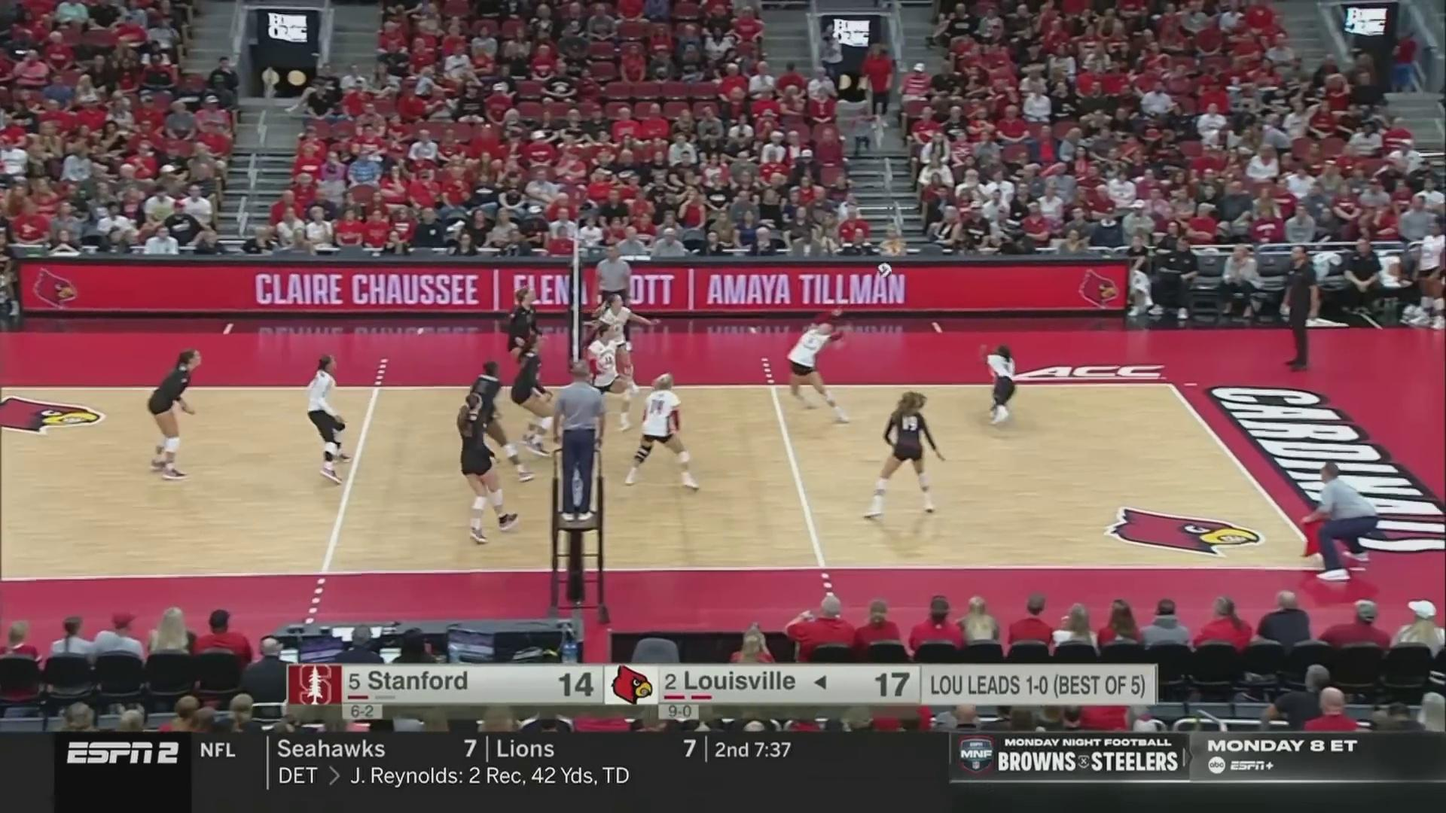player: (866, 395, 949, 521), (459, 390, 520, 542), (622, 376, 701, 489), (462, 360, 532, 483), (779, 314, 852, 425), (144, 351, 199, 479), (303, 355, 354, 480), (591, 293, 648, 399), (583, 324, 634, 432), (506, 289, 548, 413), (515, 336, 555, 460), (984, 348, 1023, 428)
refree: (1298, 463, 1380, 585), (551, 368, 600, 523), (595, 246, 634, 353)
